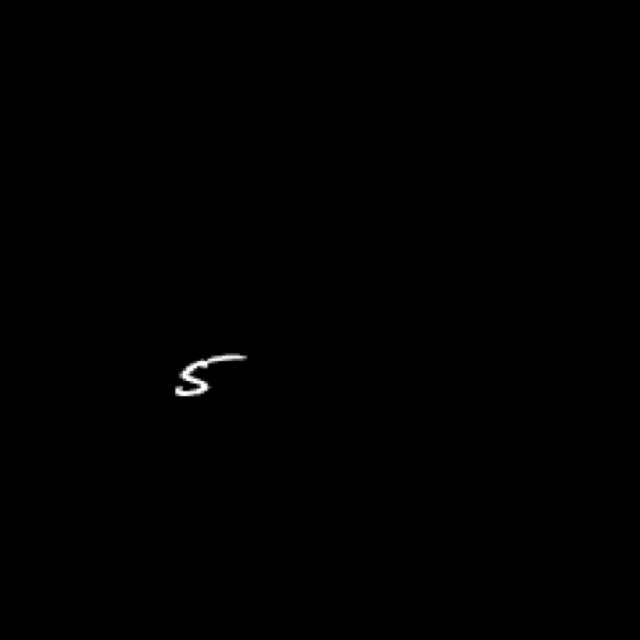five -5-: (162, 342, 254, 411)
